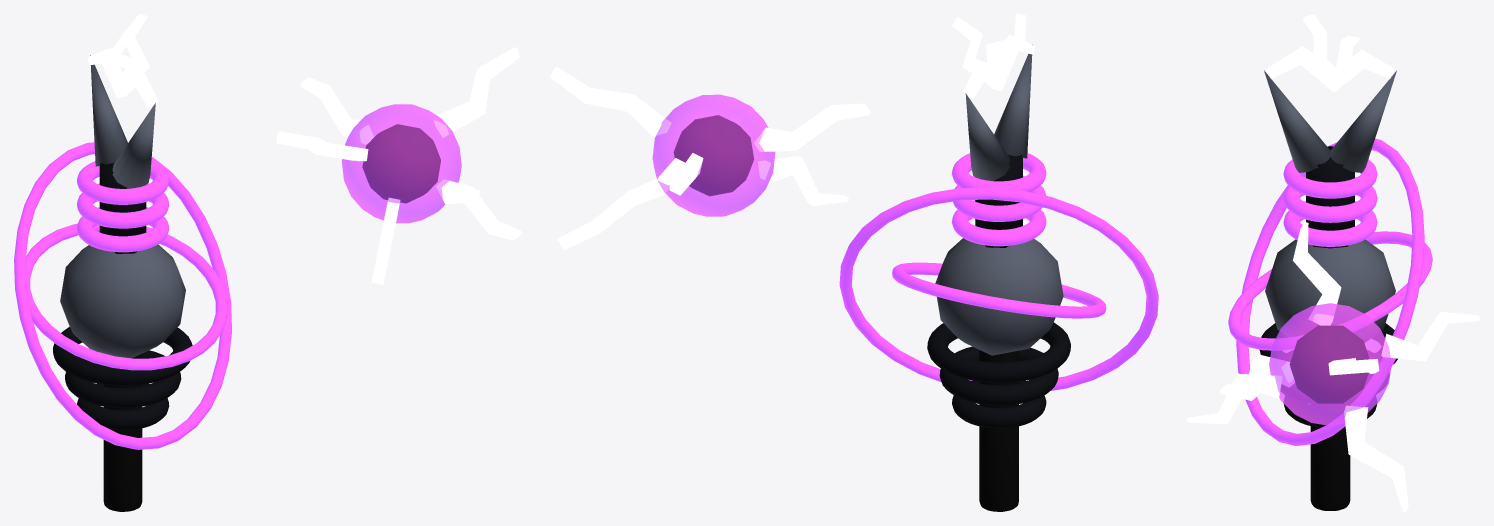
File: Storm.glb
3 views of the same model, side by side, from view 1: azimuth 30°, elevation 25°; view 2: azimuth 150°, elevation 25°; view 3: azimuth 270°, elevation 25° (orthographic). The views are drawn at different scales.
Parts seen in each view (by area): view 1: Body, Accent_Glow, Orb_Glow; view 2: Body, Accent_Glow, Orb_Glow; view 3: Body, Accent_Glow, Orb_Glow.
Part boxes in pixels (bbox=[...]): Body: bbox=[53, 55, 192, 511]; Accent_Glow: bbox=[14, 14, 231, 449]; Orb_Glow: bbox=[276, 47, 521, 284]; Body: bbox=[927, 44, 1070, 511]; Accent_Glow: bbox=[839, 14, 1158, 390]; Orb_Glow: bbox=[550, 66, 870, 249]; Body: bbox=[1259, 70, 1397, 510]; Accent_Glow: bbox=[1228, 14, 1432, 445]; Orb_Glow: bbox=[1187, 222, 1479, 511].
Bounding box in the file's own units: 3.12 × 2.61 × 1.43.
